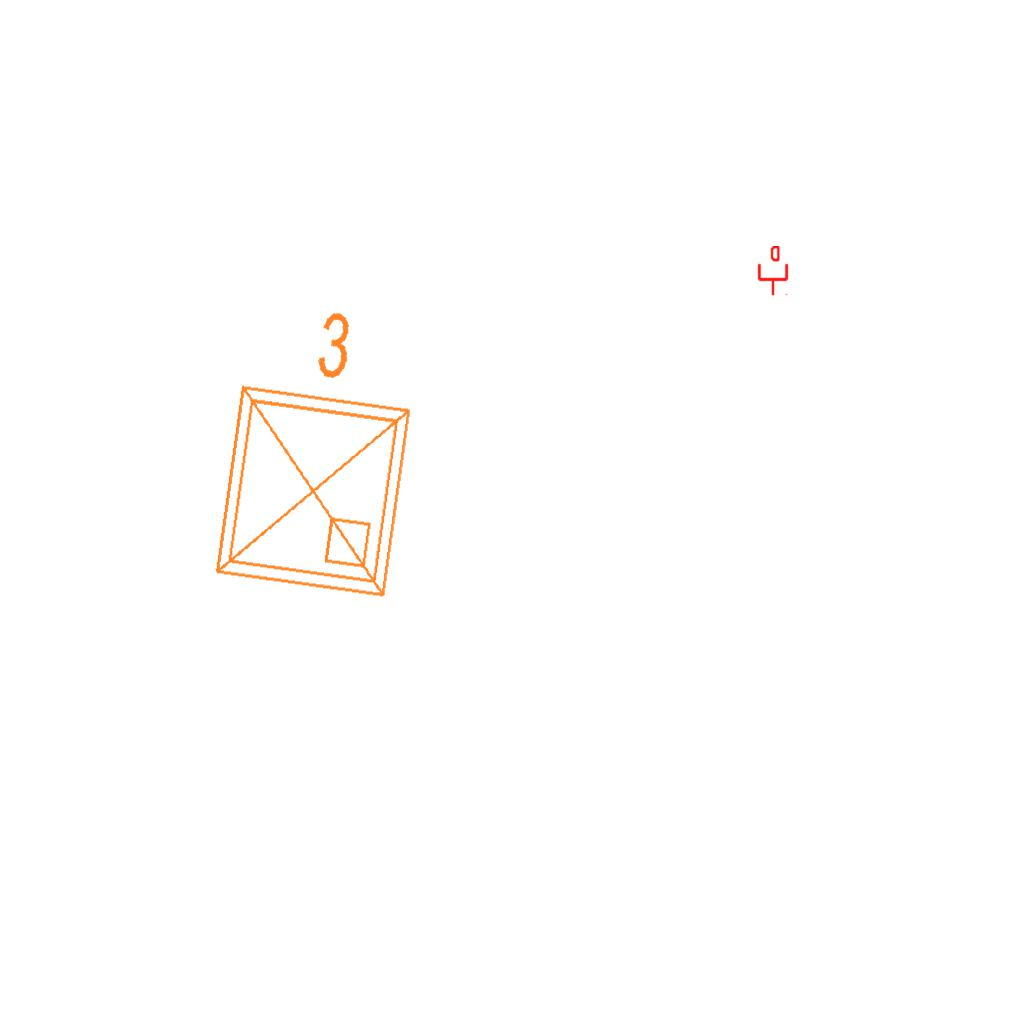Datenanschluss_einfach: (756, 246, 790, 296)
Einbaudownlights_LED_Konferenzraeume: (191, 286, 439, 614)
